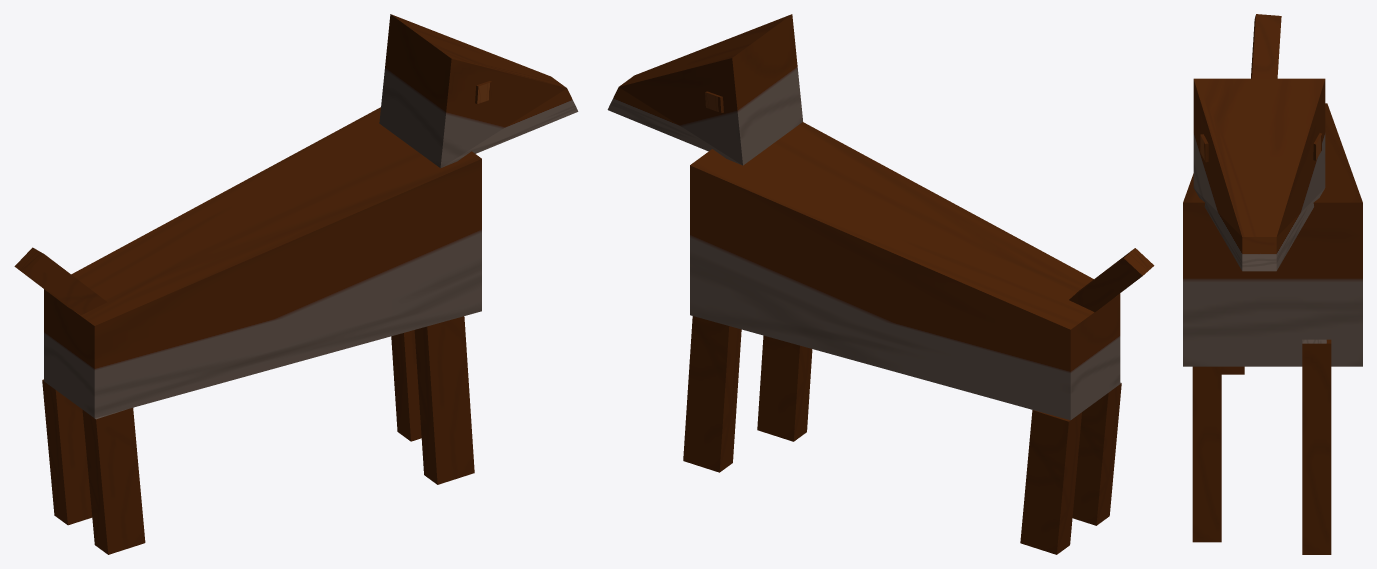
Rendered from CreatureWolf.dae.
3 renders of one model, left to right at view 1: azimuth 30°, elevation 25°; view 2: azimuth 150°, elevation 25°; view 3: azimuth 270°, elevation 25°, orthographic. The views are drawn at different scales.
Parts seen in each view (by area): view 1: Cube, Cube.005, Cube.004, Cube.001, Cube.002, Cube.003, Cube.006; view 2: Cube, Cube.005, Cube.003, Cube.002, Cube.004, Cube.001, Cube.006; view 3: Cube, Cube.005, Cube.003, Cube.004, Cube.006.
Boxes of the visible parts, bbox=[...] form: Cube: bbox=[44, 107, 481, 418]; Cube.005: bbox=[379, 14, 578, 168]; Cube.004: bbox=[414, 316, 474, 484]; Cube.001: bbox=[82, 408, 145, 554]; Cube.002: bbox=[42, 379, 92, 525]; Cube.003: bbox=[391, 330, 421, 441]; Cube.006: bbox=[14, 247, 107, 314]; Cube: bbox=[690, 122, 1120, 420]; Cube.005: bbox=[607, 14, 802, 165]; Cube.003: bbox=[683, 316, 741, 472]; Cube.002: bbox=[1020, 410, 1081, 554]; Cube.004: bbox=[757, 335, 812, 441]; Cube.001: bbox=[1072, 382, 1121, 525]; Cube.006: bbox=[1069, 248, 1154, 312]; Cube: bbox=[1183, 103, 1362, 366]; Cube.005: bbox=[1193, 78, 1325, 271]; Cube.003: bbox=[1302, 339, 1331, 554]; Cube.004: bbox=[1192, 366, 1221, 542]; Cube.006: bbox=[1251, 14, 1281, 78].
Size of the model in its own units: 5.64 by 1.49 by 4.16.
Materials: 1 (1 with a texture image).
